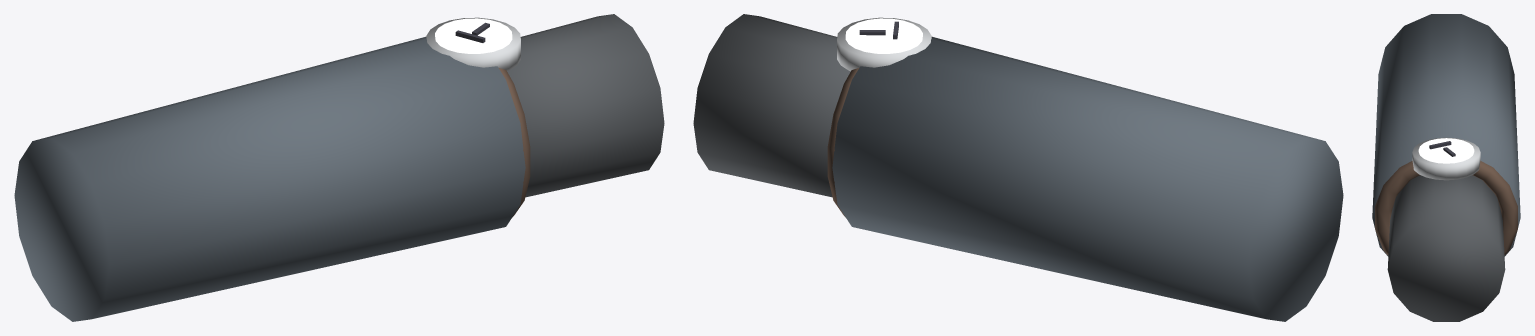
The model's file is vm_watch.glb.
3 renders of one model, left to right at view 1: azimuth 30°, elevation 25°; view 2: azimuth 150°, elevation 25°; view 3: azimuth 270°, elevation 25°, orthographic. The views are drawn at different scales.
Visible parts, largest first — view 1: ForearmSleeve, WristGlove, WatchFace, WatchBezel, WatchStrap; view 2: ForearmSleeve, WristGlove, WatchFace, WatchBezel, WatchStrap; view 3: ForearmSleeve, WristGlove, WatchStrap, WatchBezel, WatchFace.
Boxes of the visible parts, x1,y1,x2,y2 form: ForearmSleeve: (14,36,525,321); WristGlove: (507,14,664,197); WatchFace: (435,18,512,53); WatchBezel: (426,17,520,71); WatchStrap: (499,68,530,217); ForearmSleeve: (832,36,1343,321); WristGlove: (693,14,850,197); WatchFace: (845,18,922,53); WatchBezel: (837,17,931,71); WatchStrap: (827,68,858,217); ForearmSleeve: (1372,14,1520,256); WristGlove: (1387,175,1505,321); WatchStrap: (1375,161,1517,255); WatchBezel: (1412,137,1480,180); WatchFace: (1418,138,1474,163).
Bounding box in the file's own units: 0.3 × 0.098 × 0.096.
